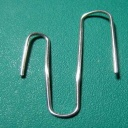Metal: (16, 3, 122, 123)
